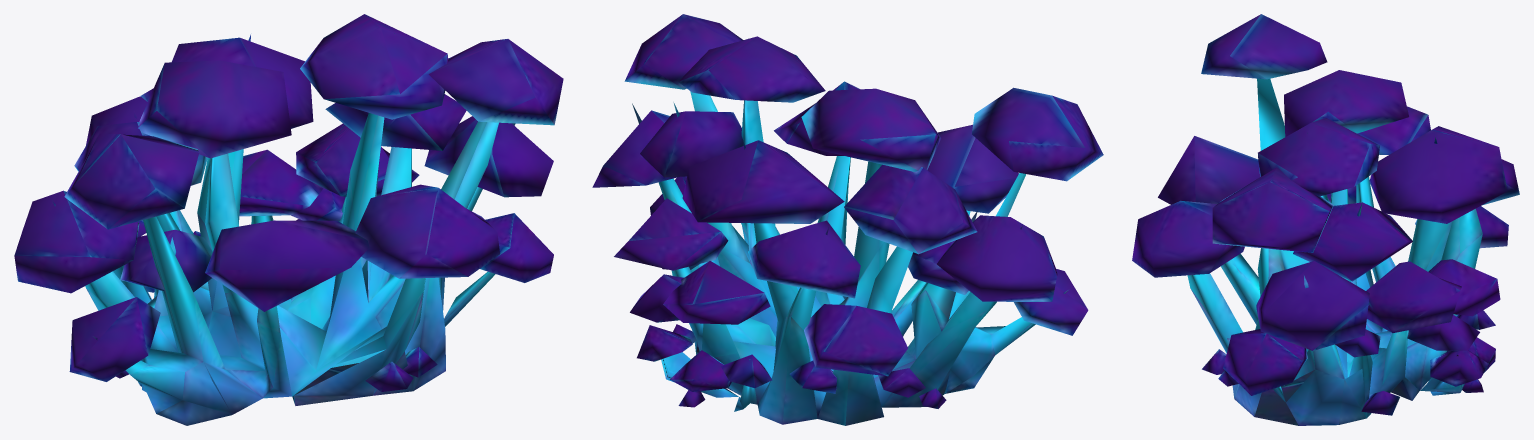
File: shrooms.glb
3 views of the same model, side by side, from view 1: azimuth 30°, elevation 25°; view 2: azimuth 150°, elevation 25°; view 3: azimuth 270°, elevation 25° (orthographic). The views are drawn at different scales.
Bounding box in the file's own units: 0.9692 × 0.5996 × 0.7412.
Materials: 1 (1 with a texture image).
